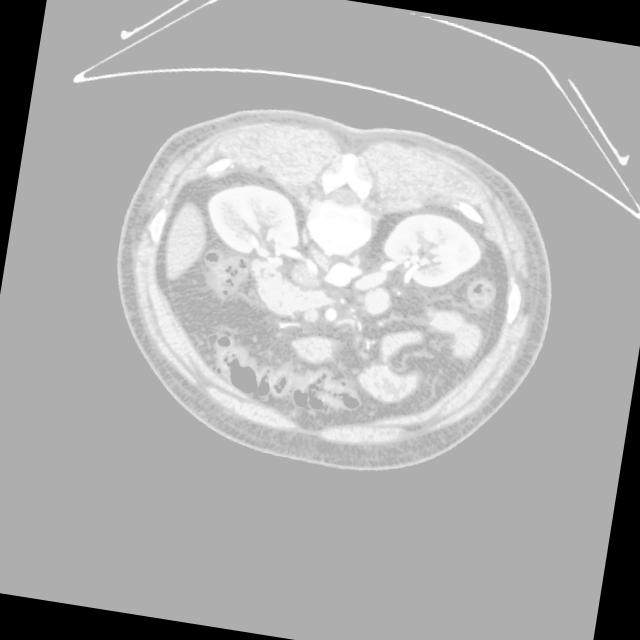NORMAL: (68, 113, 584, 510)
